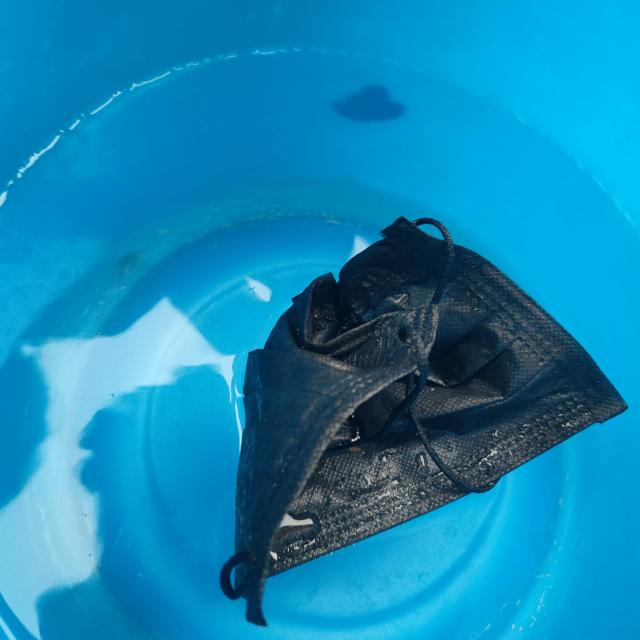litter: (177, 206, 629, 603)
